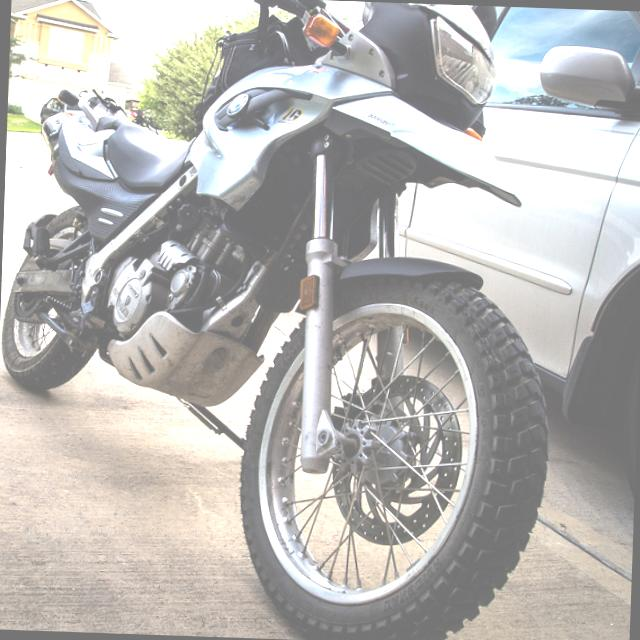Vehicle: (0, 0, 562, 640), (387, 3, 640, 539)
